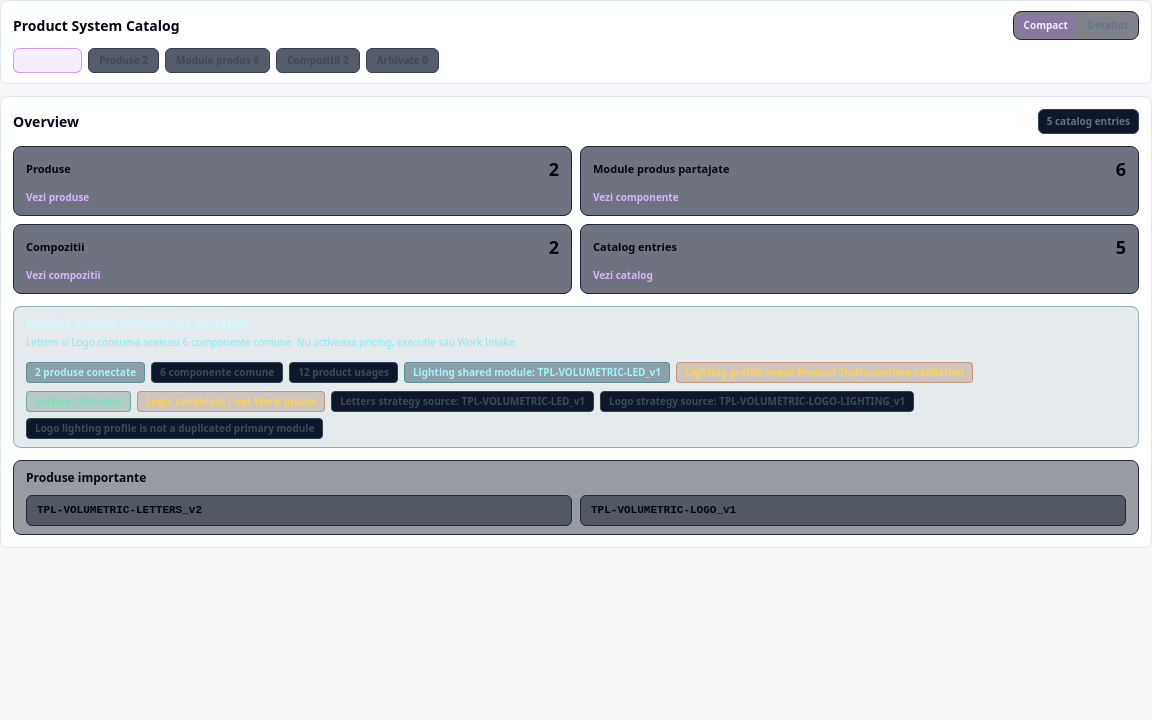
Test: TemplateLibraryView scalable Product System navigation › switches to Archived view and shows empty state when none exist
Step 1. Click the tab "Arhivate 0" → (402, 60), box [366,48,439,73]
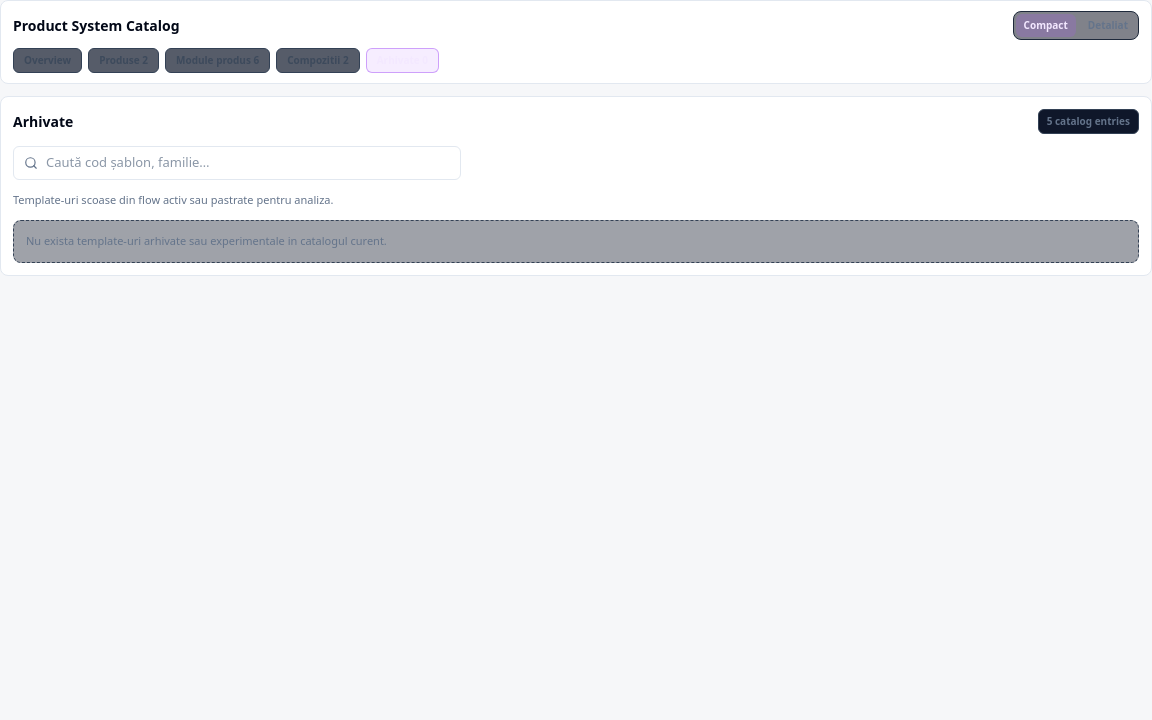
Expected: the element with test id "product-system-view-archived" is shown, [0,96,1151,276]
Expected: the text "Nu exista template-uri arhivate sau experimentale in catalogul curent." is shown, [13,220,1139,262]
